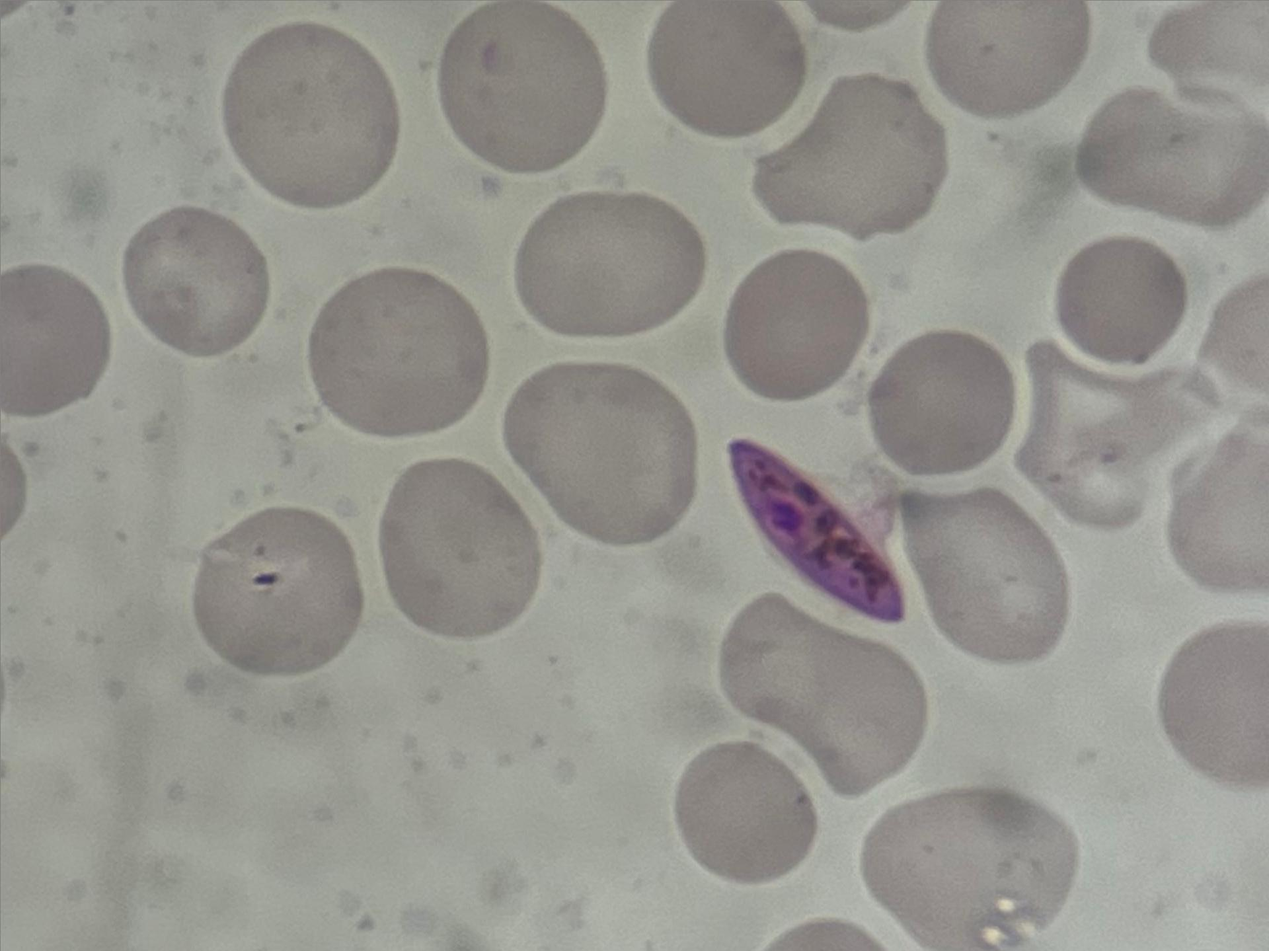Infected: (723, 428, 916, 624)
Uninfected: (718, 593, 925, 793), (1018, 333, 1216, 522), (505, 358, 702, 546), (866, 789, 1077, 951), (220, 21, 400, 209), (187, 507, 375, 680), (753, 80, 944, 243), (908, 477, 1069, 668), (509, 186, 708, 340), (311, 274, 491, 443), (438, 0, 610, 176), (381, 455, 543, 634), (1075, 84, 1269, 226), (727, 241, 865, 403), (648, 1, 809, 136), (672, 737, 814, 890), (864, 333, 1022, 470), (126, 212, 273, 359), (931, 0, 1088, 113), (1058, 232, 1187, 359), (0, 265, 103, 424)
